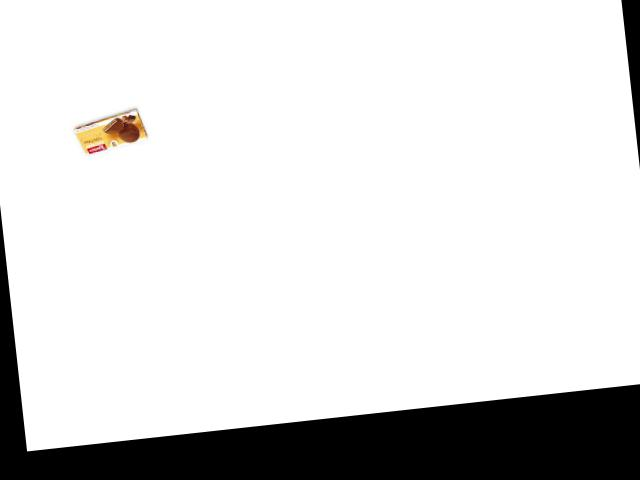chocolate: (61, 114, 153, 157)
